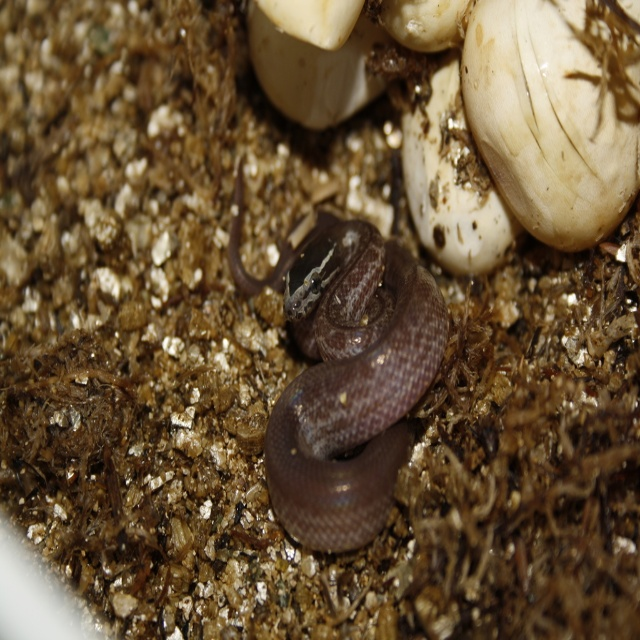Snake: (229, 168, 450, 554)
